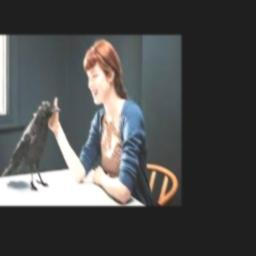Crow: (1, 103, 61, 191)
